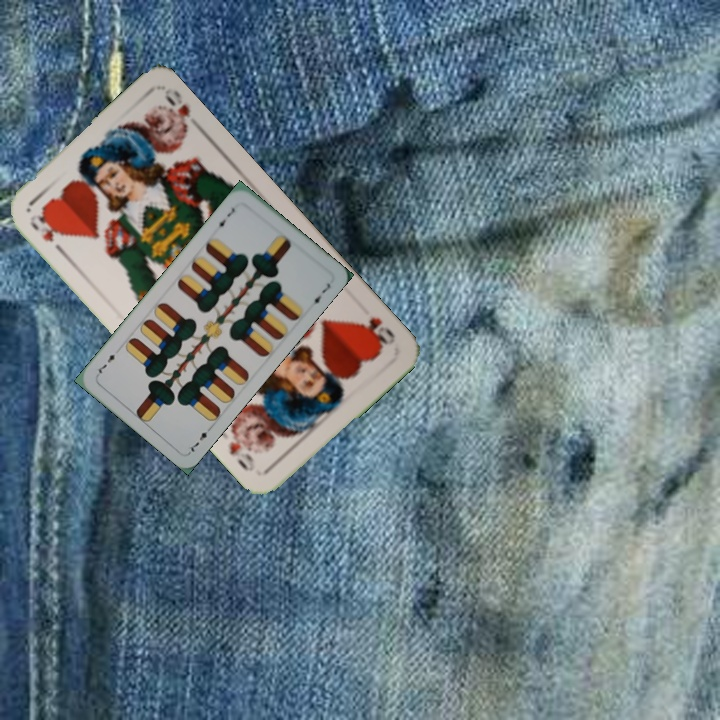E7: (184, 422, 215, 455), (211, 204, 238, 232)
HO: (25, 210, 69, 258), (356, 313, 398, 350)
